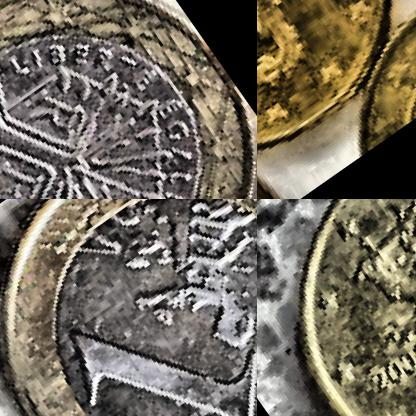coin: (0, 199, 256, 415), (0, 0, 256, 198), (257, 199, 415, 415), (257, 0, 415, 198)
